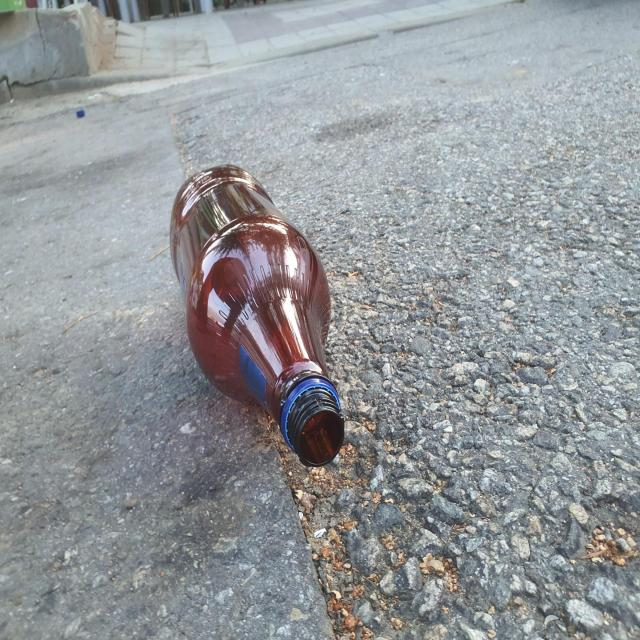plastic: (170, 165, 345, 467)
